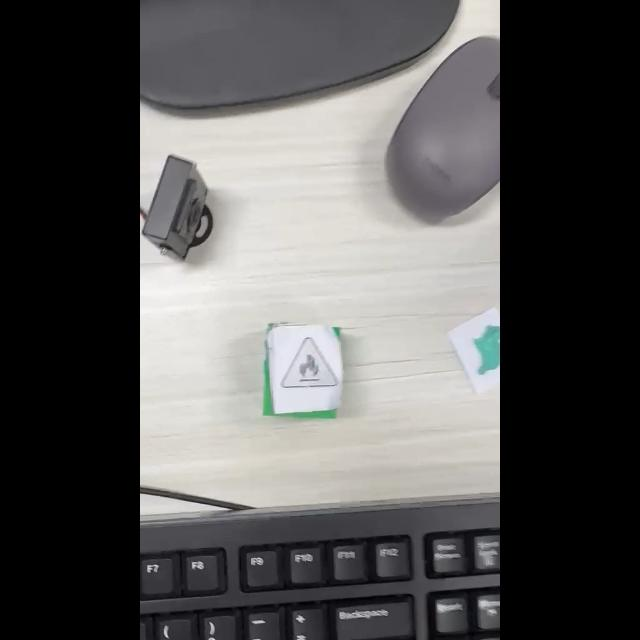Fire: (281, 337, 338, 388)
